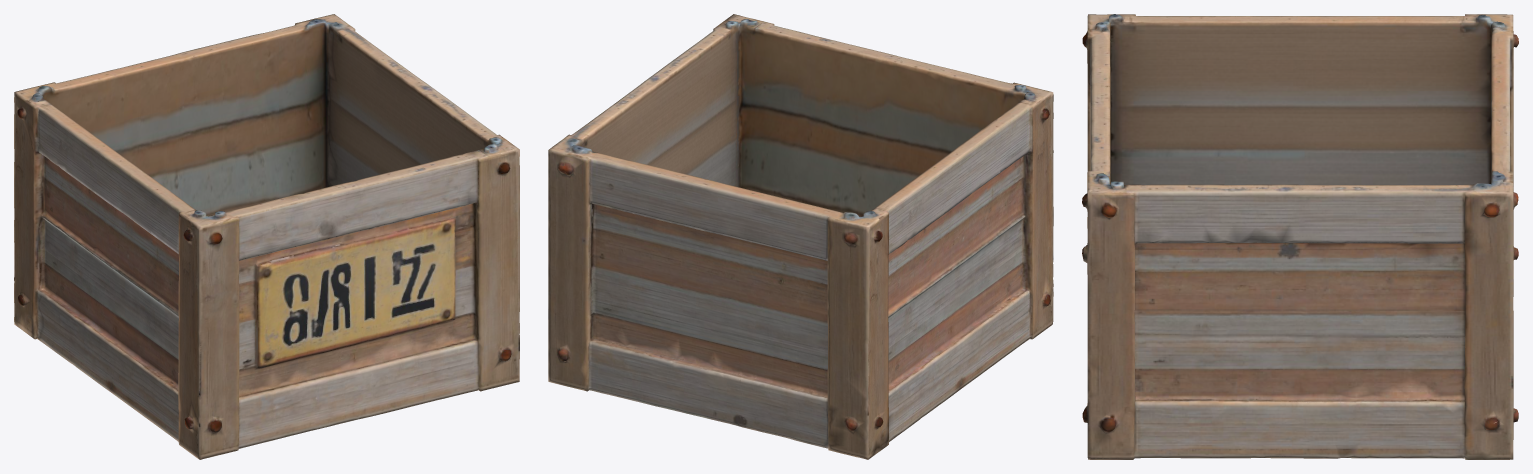
The picture shows the model from 3 angles, left to right: view 1: azimuth 30°, elevation 25°; view 2: azimuth 150°, elevation 25°; view 3: azimuth 270°, elevation 25°; orthographic projection. The views are drawn at different scales.
Visible parts, largest first — view 1: Mesh1.0; view 2: Mesh1.0; view 3: Mesh1.0.
Part boxes in pixels (x1,y1,x2,y2): Mesh1.0: (14,14,519,459); Mesh1.0: (548,14,1053,459); Mesh1.0: (1082,14,1518,459).
Bounding box in the file's own units: 200 × 137 × 200.
Materials: 1 (1 with a texture image).
